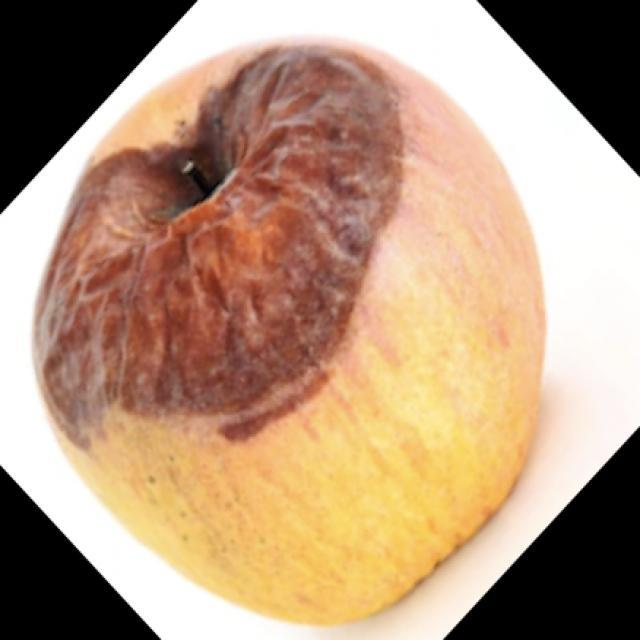Rotten: (50, 43, 543, 617)
